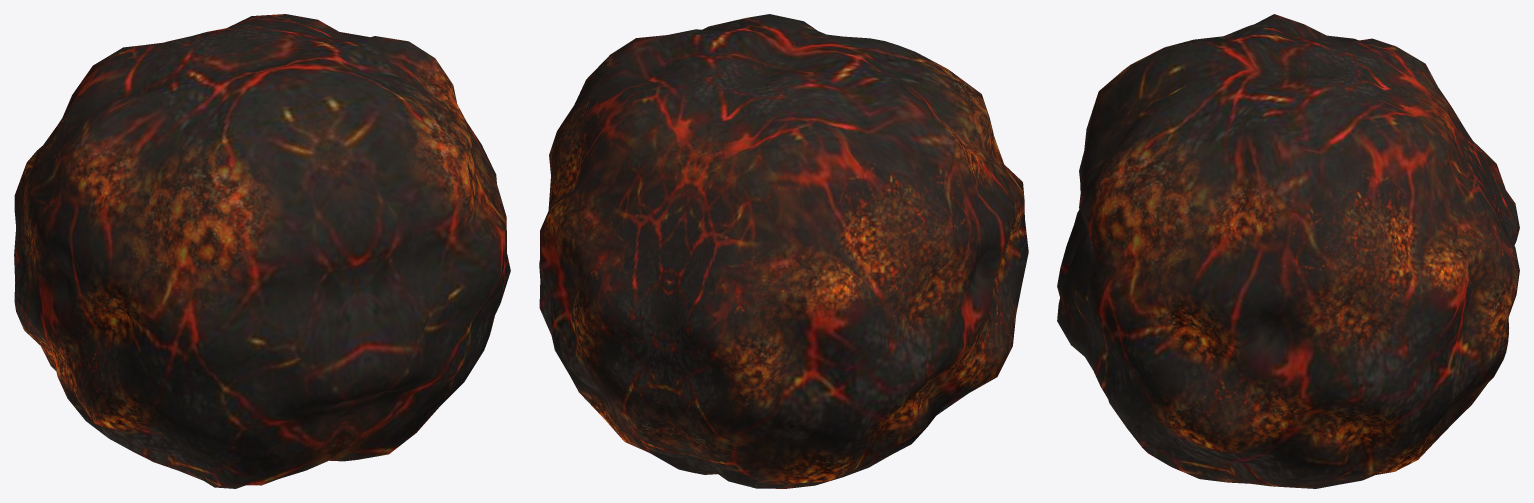
The model's file is magmaRock.obj.
The picture shows the model from 3 angles, left to right: view 1: azimuth 30°, elevation 25°; view 2: azimuth 150°, elevation 25°; view 3: azimuth 270°, elevation 25°; orthographic projection. The views are drawn at different scales.
Visible parts, largest first — view 1: magmaRock; view 2: magmaRock; view 3: magmaRock.
Boxes of the visible parts, <box> form: magmaRock: <box>14,14,510,488</box>; magmaRock: <box>539,14,1028,488</box>; magmaRock: <box>1057,14,1519,488</box>.
Size of the model in its own units: 2.21 by 2.09 by 2.18.
